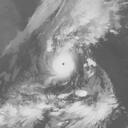cyclone: (48, 51, 80, 81)
